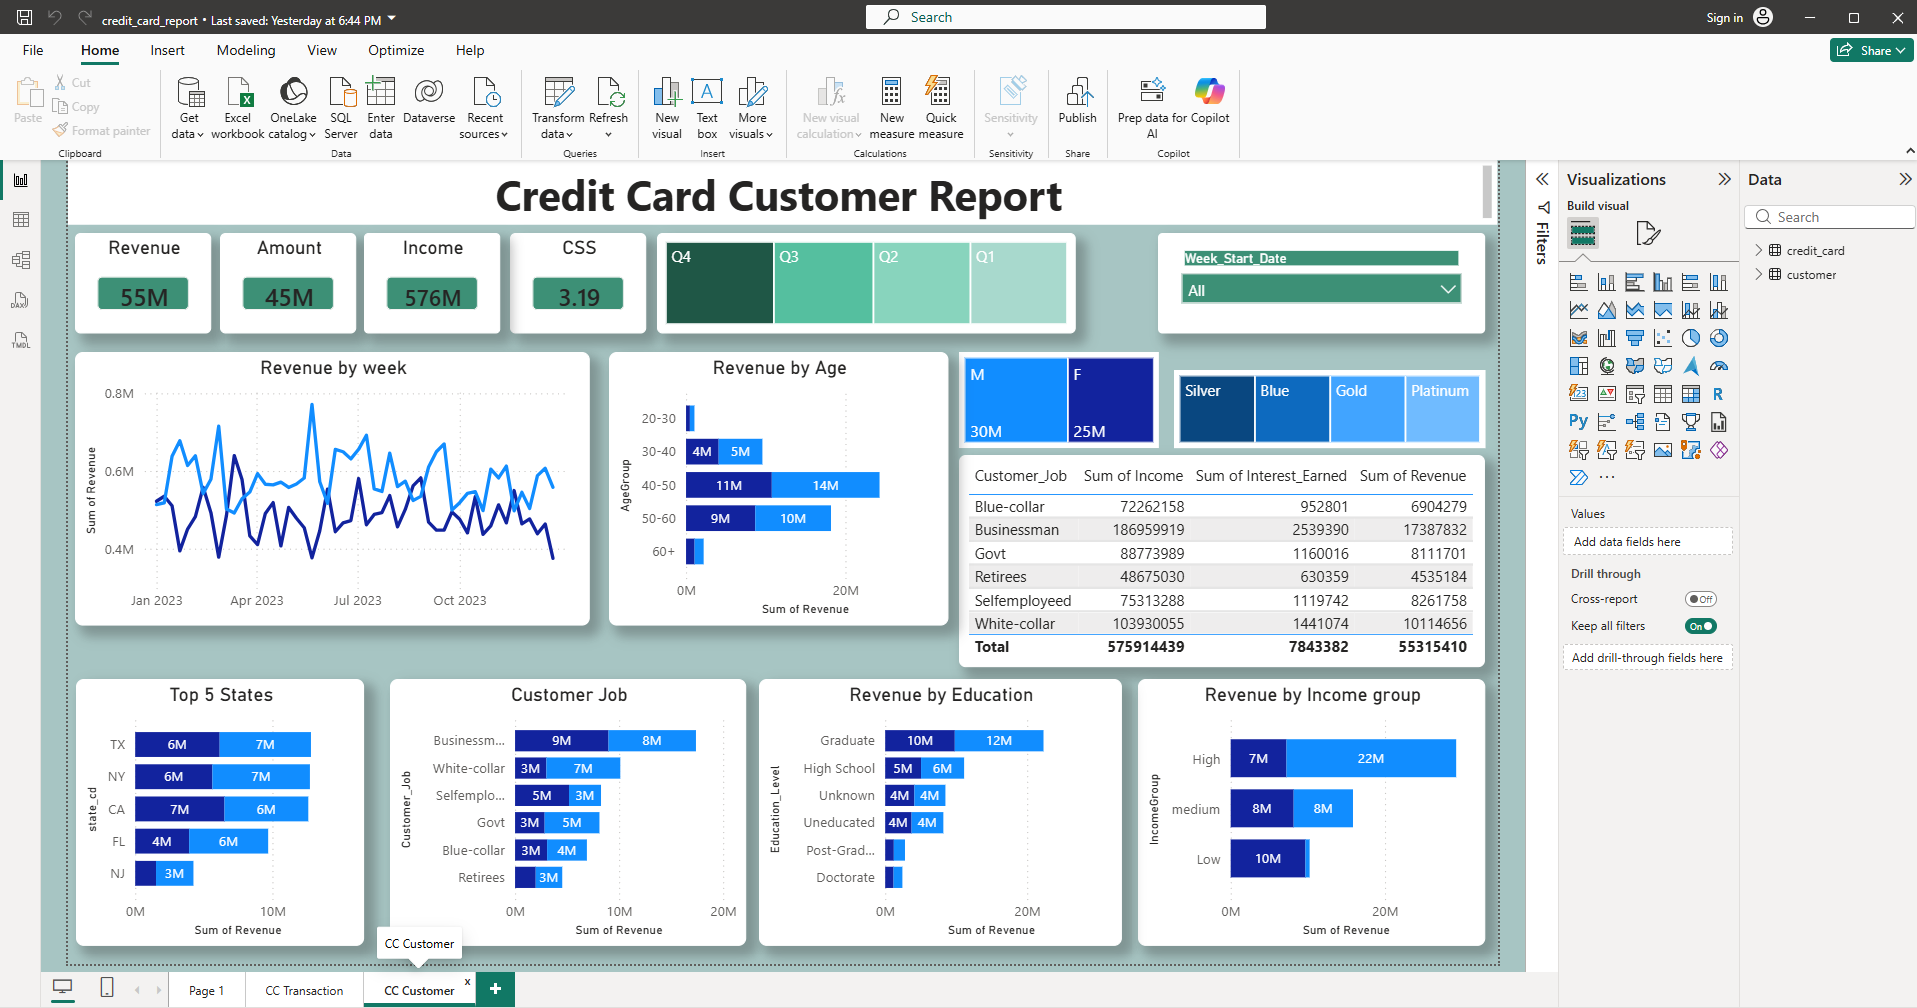

The page's visual inventory and layout, read from the dashboard file:
{"tool":"powerbi","page":{"name":"CC Customer","canvas":[1280,720],"ordinal":2},"visuals":[{"type":"textbox","box":[0,0,1280.4,57.6],"z":0},{"type":"tableEx","fields":{"Values":["customer.Customer_Job","Sum(customer.Income)","Sum(credit_card.Interest_Earned)","Sum(credit_card.Revenue)"]},"box":[798.3,264.6,470.9,190.2],"z":1000},{"type":"cardVisual","title":"Revenue","fields":{"Data":["Sum(credit_card.Revenue)"]},"box":[6.2,65.6,122.4,89.6],"z":2000},{"type":"cardVisual","title":"Amount","fields":{"Data":["Sum(credit_card.Total_Trans_Amt)"]},"box":[136.6,65.6,122.4,89.6],"z":3000},{"type":"cardVisual","title":"CSS","fields":{"Data":["Avg(customer.Cust_Satisfaction_Score)"]},"box":[395.5,65.6,122.4,89.6],"z":4000},{"type":"cardVisual","title":"Income","fields":{"Data":["Sum(customer.Income)"]},"box":[265.1,65.6,122.4,89.6],"z":5000},{"type":"slicer","fields":{"Values":["credit_card.Week_Start_Date"]},"box":[976.3,65.6,293.5,89.6],"z":6000},{"type":"treemap","fields":{"Group":["credit_card.Quarter_Name"],"Values":["Avg(credit_card.Client_Num)"]},"box":[527.6,65.6,375.1,89.6],"z":7000},{"type":"barChart","title":"Revenue by Income group","fields":{"Y":["Sum(credit_card.Revenue)"],"Category":["customer.IncomeGroup"],"Series":["customer.Gender"]},"box":[958,464.6,311.3,239.5],"z":8000},{"type":"lineChart","title":"Revenue by week","fields":{"Y":["Sum(credit_card.Revenue)"],"Series":["customer.Gender"],"Category":["credit_card.Week_Start_Date.Variation.Date Hierarchy.Year","credit_card.Week_Start_Date.Variation.Date Hierarchy.Month","credit_card.Week_Start_Date.Variation.Date Hierarchy.Day"]},"box":[6.3,172.2,461.1,244.9],"z":9000},{"type":"treemap","fields":{"Group":["customer.Gender"],"Values":["Sum(credit_card.Revenue)"]},"box":[798.3,172.2,179.4,86.1],"z":10000},{"type":"barChart","title":"Revenue by Age","fields":{"Y":["Sum(credit_card.Revenue)"],"Category":["customer.AgeGroup"],"Series":["customer.Gender"]},"box":[484.4,172.2,304.1,244.9],"z":11000},{"type":"barChart","title":"Customer Job","fields":{"Y":["Sum(credit_card.Revenue)"],"Category":["customer.Customer_Job"],"Series":["customer.Gender"]},"box":[287.9,464.6,319.3,239.5],"z":12000},{"type":"barChart","title":"Revenue by Education","fields":{"Y":["Sum(credit_card.Revenue)"],"Category":["customer.Education_Level"],"Series":["customer.Gender"]},"box":[618.9,464.6,324.7,239.5],"z":13000},{"type":"barChart","title":"Top 5 States","fields":{"Y":["Sum(credit_card.Revenue)"],"Category":["customer.state_cd"],"Series":["customer.Gender"]},"box":[7.2,464.6,258.3,239.5],"z":14000},{"type":"treemap","fields":{"Group":["credit_card.Card_Category"],"Values":["Avg(credit_card.Client_Num)"]},"box":[990.3,188.4,279,70],"z":15001}]}

Visuals, with their boxes on the page's 1280x720 design canvas (x1, y1, x2, y2). These are canvas units, not pixel positions in the 1917x1008 screenshot, which may show the page scaled, cropped or inside an application window:
textbox: {"x1": 0, "y1": 0, "x2": 1280, "y2": 58}
tableEx - customer.Customer_Job x Sum(customer.Income): {"x1": 798, "y1": 265, "x2": 1269, "y2": 455}
"Revenue" cardVisual: {"x1": 6, "y1": 66, "x2": 129, "y2": 155}
"Amount" cardVisual: {"x1": 137, "y1": 66, "x2": 259, "y2": 155}
"CSS" cardVisual: {"x1": 396, "y1": 66, "x2": 518, "y2": 155}
"Income" cardVisual: {"x1": 265, "y1": 66, "x2": 388, "y2": 155}
slicer - credit_card.Week_Start_Date: {"x1": 976, "y1": 66, "x2": 1270, "y2": 155}
treemap - credit_card.Quarter_Name x Avg(credit_card.Client_Num): {"x1": 528, "y1": 66, "x2": 903, "y2": 155}
"Revenue by Income group" barChart: {"x1": 958, "y1": 465, "x2": 1269, "y2": 704}
"Revenue by week" lineChart: {"x1": 6, "y1": 172, "x2": 467, "y2": 417}
treemap - customer.Gender x Sum(credit_card.Revenue): {"x1": 798, "y1": 172, "x2": 978, "y2": 258}
"Revenue by Age" barChart: {"x1": 484, "y1": 172, "x2": 788, "y2": 417}
"Customer Job" barChart: {"x1": 288, "y1": 465, "x2": 607, "y2": 704}
"Revenue by Education" barChart: {"x1": 619, "y1": 465, "x2": 944, "y2": 704}
"Top 5 States" barChart: {"x1": 7, "y1": 465, "x2": 266, "y2": 704}
treemap - credit_card.Card_Category x Avg(credit_card.Client_Num): {"x1": 990, "y1": 188, "x2": 1269, "y2": 258}
